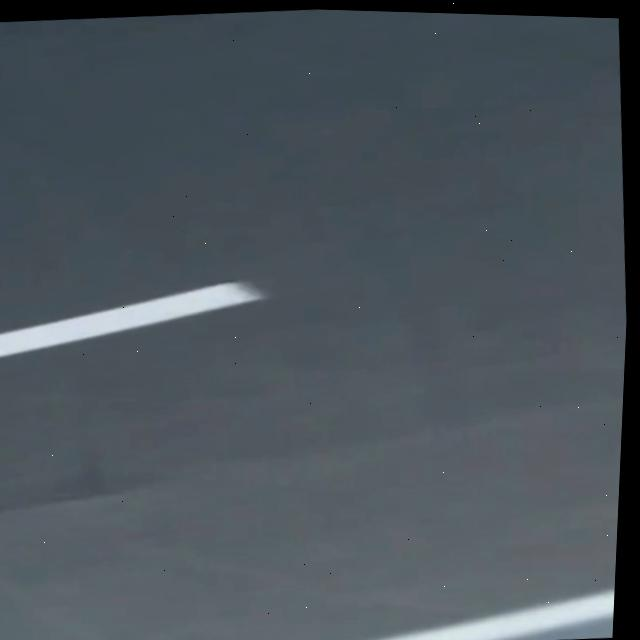center: (0, 283, 264, 357)
left: (380, 589, 615, 640)
